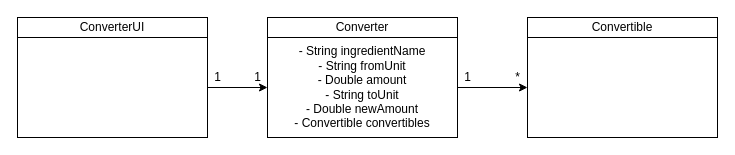
Image size: 735x155. Some labels were removed from this diagram. The shapes that lost their labels are listed below. From the top down, each one's centre as x and y in pixels, then its label:
At point 112,87: "- Converter converter".
At point 622,87: "- String ingredientName - Double gramsInCup".
